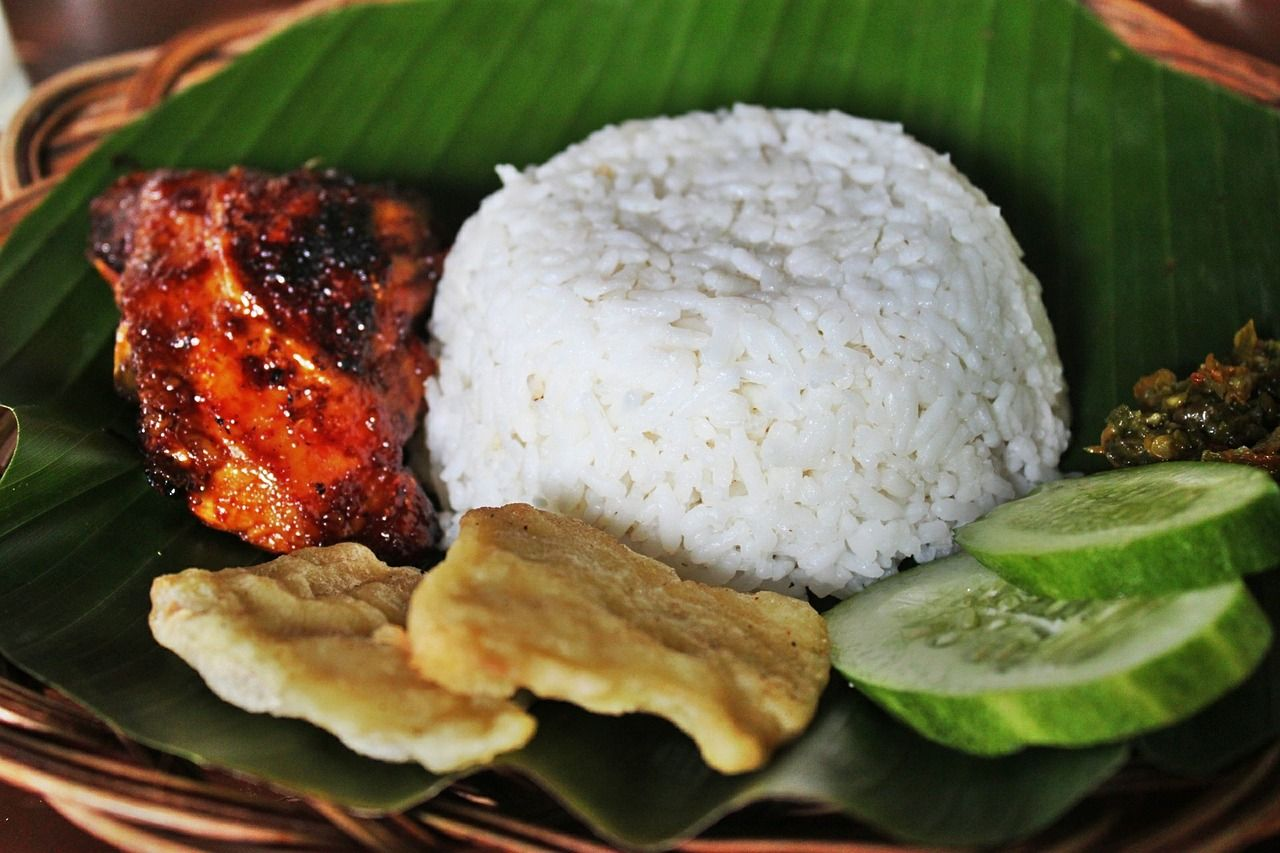Nasi Putih: (429, 84, 1101, 591)
